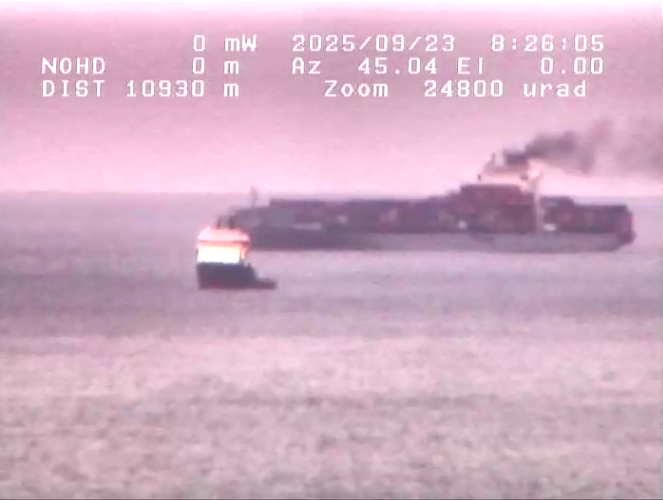TANKER: (219, 150, 651, 263), (178, 219, 279, 293)
